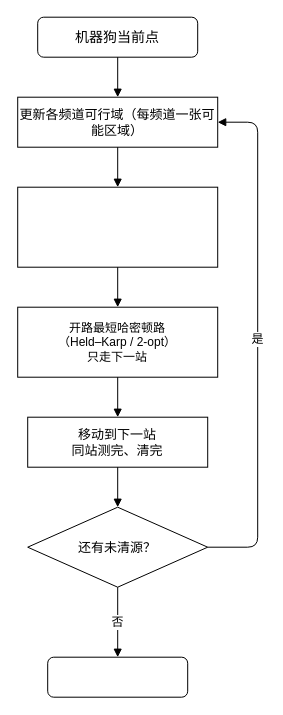
Some shapes in this 283 by 715 pixel diagram are drawn without their labels. Here are the shapes that lost their labels. From the top down, the centre of each, then its label:
At (x=117, y=226): "生成三类任务 ① 能清（MEC≤20） ② 补测（单楔形/区域太大） ③ 听洞（未覆盖点）".
At (x=117, y=676): "结束".
